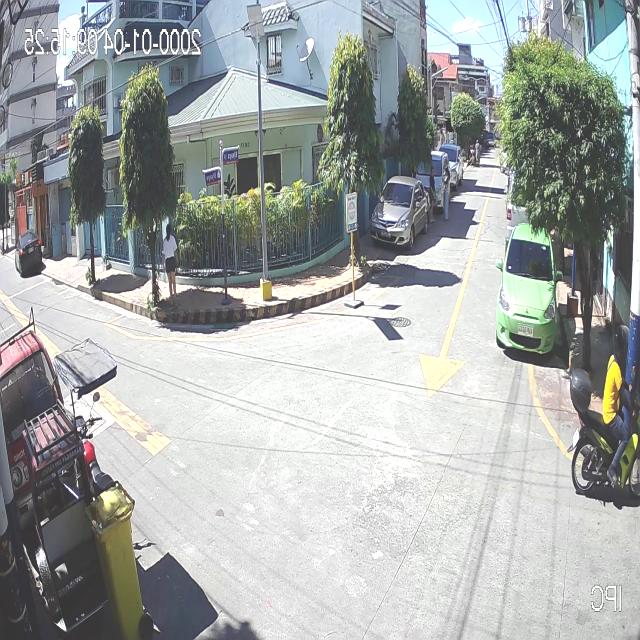standing: (439, 166, 452, 221), (427, 166, 438, 223)
walking: (162, 222, 180, 310), (474, 139, 481, 165)
